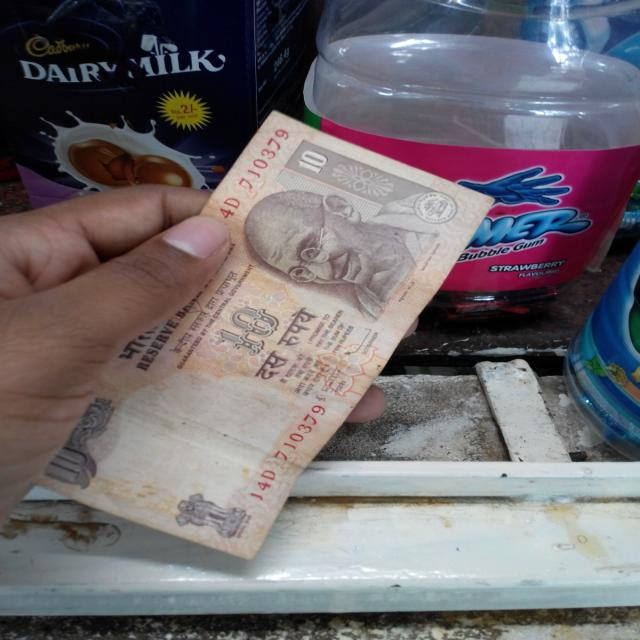10rs: (62, 110, 489, 562)
